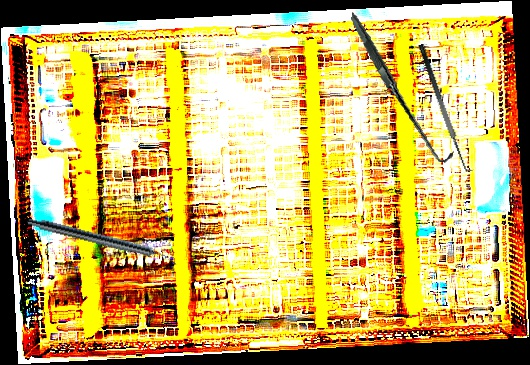Handpiece: (25, 215, 180, 267)
Hook Surgical: (331, 12, 473, 164)
Spatula Surgical: (416, 39, 478, 176)
